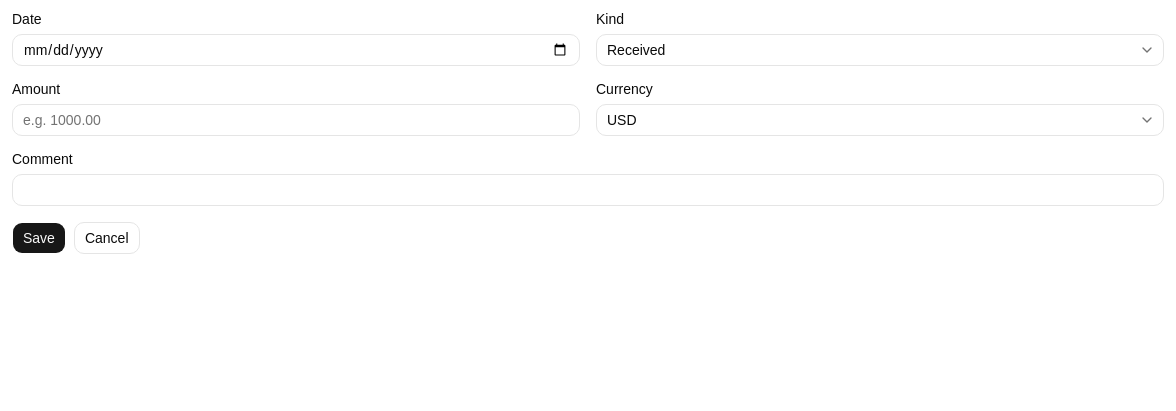
it: DepositMovementForm › hides applies-to and transaction for Received, shows them for Applied
Expected: the text "Applies to" is not shown
Expected: the text "Transaction" is not shown
Step 1. Click the dropdown named "Kind" → (636, 50), box x1=596 y1=34 x2=1164 y2=66
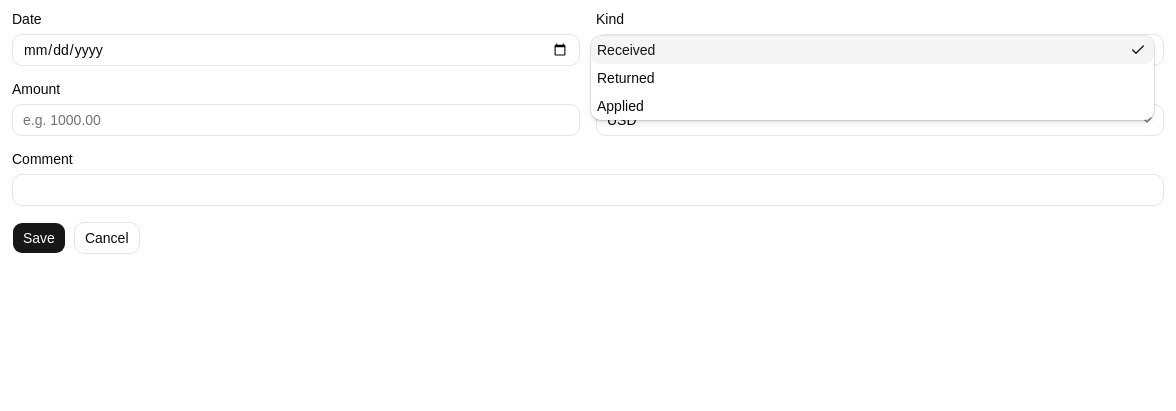
Step 2. Click the option "Applied" → (620, 106), box x1=597 y1=98 x2=644 y2=114
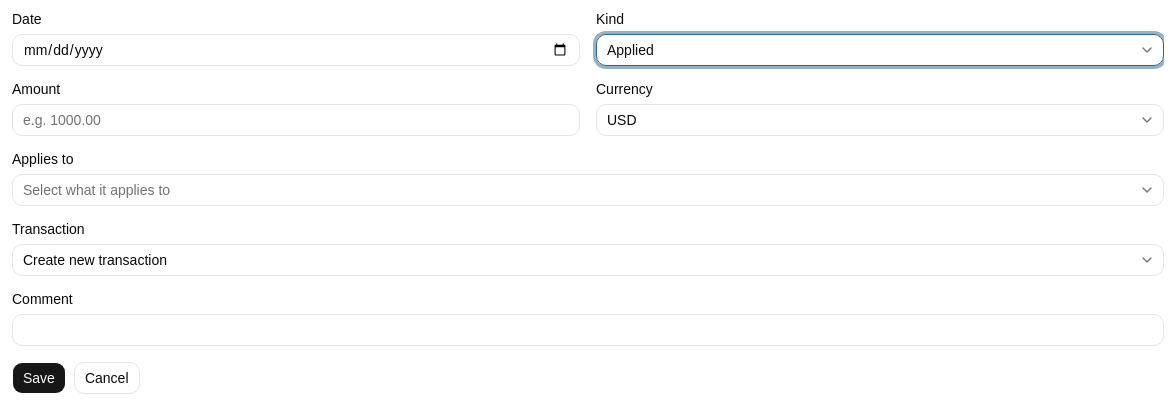
Expected: the dropdown labelled "applies to" is shown, x1=12 y1=174 x2=1164 y2=206
Expected: the dropdown labelled "transaction" is shown, x1=12 y1=244 x2=1164 y2=276
Step 3. Click the dropdown named "Kind" → (630, 50), box x1=596 y1=34 x2=1164 y2=66
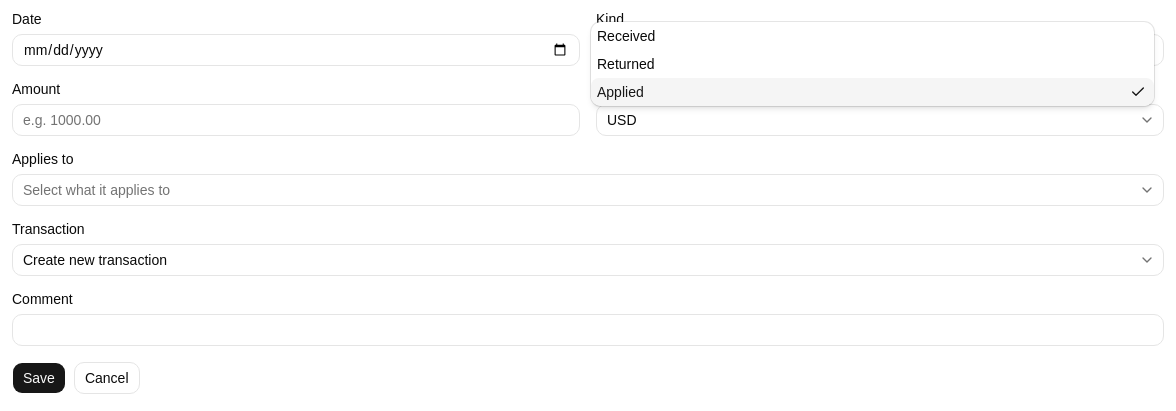
Step 4. Click the option "Returned" → (626, 64), box x1=597 y1=56 x2=655 y2=72
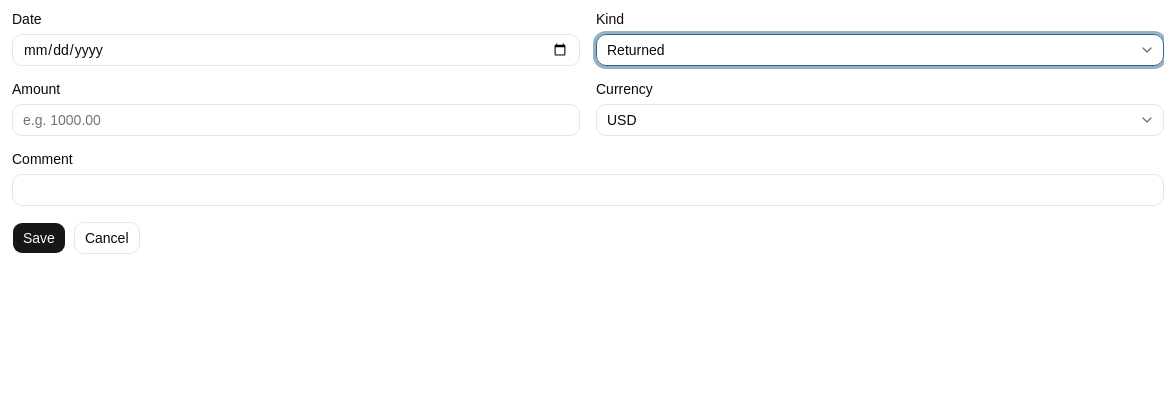
Expected: the text "Applies to" is gone
